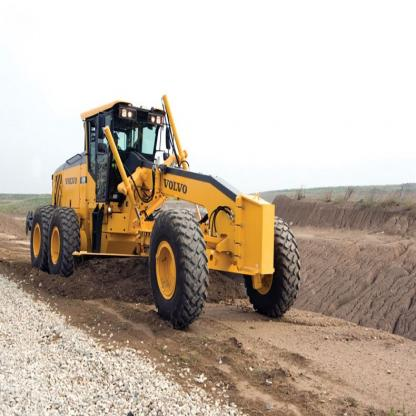bull_dozer/loader/grader: (27, 88, 302, 333)
